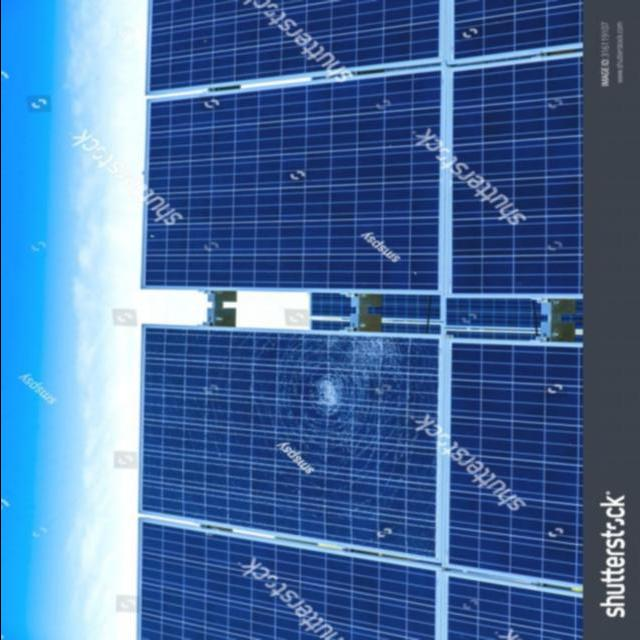cracked: (134, 334, 448, 546)
